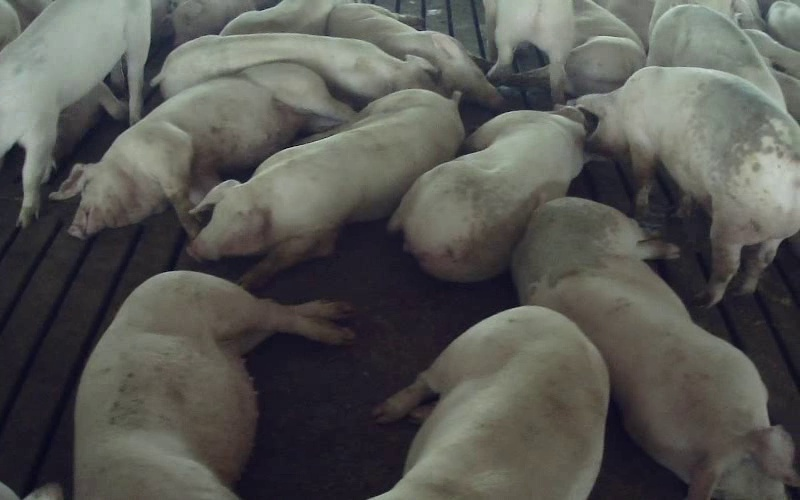pig: (512, 197, 799, 499), (75, 271, 352, 499), (189, 89, 463, 287), (576, 67, 799, 305), (51, 63, 353, 237), (372, 307, 608, 499), (388, 107, 585, 281), (153, 33, 438, 106), (327, 4, 502, 108), (647, 5, 785, 109), (484, 0, 573, 103), (565, 0, 645, 96)
